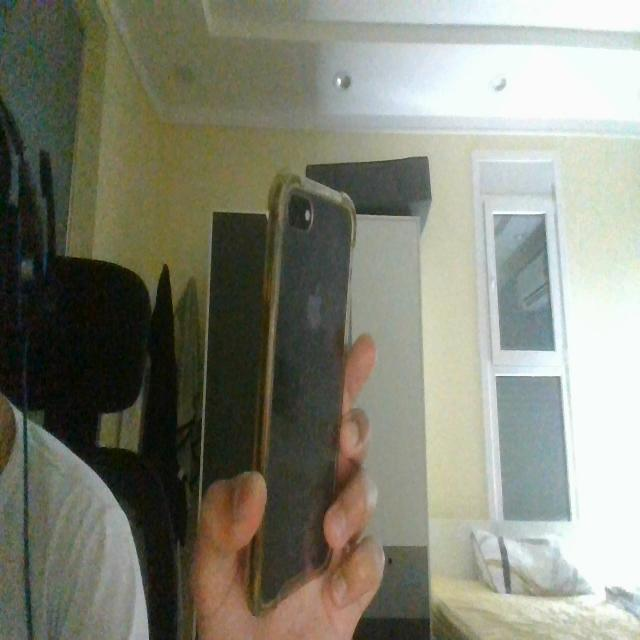Phone: (245, 176, 359, 615)
